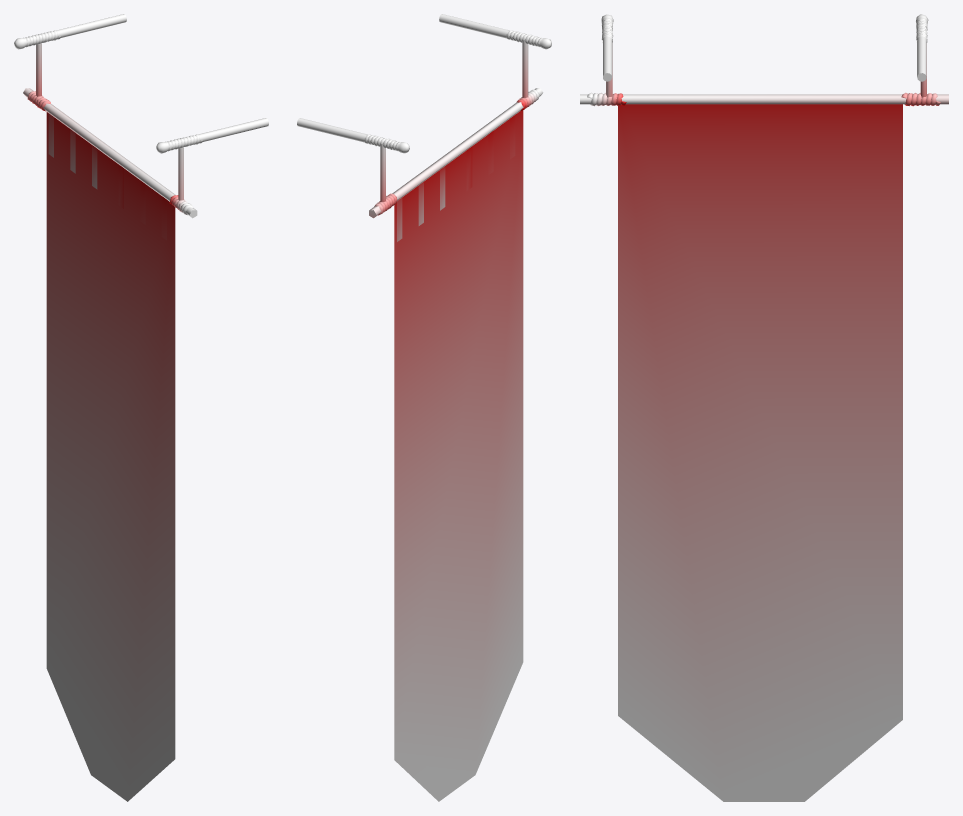
The model's file is SM_VikingFlag_01a.fbx.
3 views of the same model, side by side, from view 1: azimuth 30°, elevation 25°; view 2: azimuth 150°, elevation 25°; view 3: azimuth 270°, elevation 25° (orthographic). The views are drawn at different scales.
Visible parts, largest first — view 1: SM_VikingFlag_01a_LOD0; view 2: SM_VikingFlag_01a_LOD0; view 3: SM_VikingFlag_01a_LOD0.
Part boxes in pixels (left/top/right/bottom): SM_VikingFlag_01a_LOD0: left=14, top=14, right=268, bottom=801; SM_VikingFlag_01a_LOD0: left=297, top=14, right=551, bottom=801; SM_VikingFlag_01a_LOD0: left=580, top=14, right=948, bottom=801.
Bounding box in the file's own units: 25.17 × 66.15 × 154.
